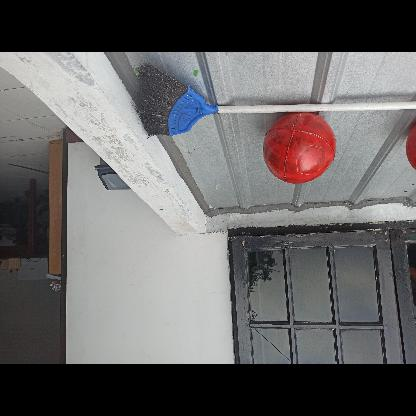red_ball: (265, 115, 335, 185)
